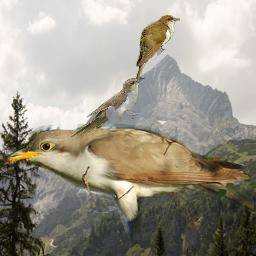Cuckoo: (2, 124, 254, 244), (68, 77, 145, 138), (133, 14, 180, 93)
